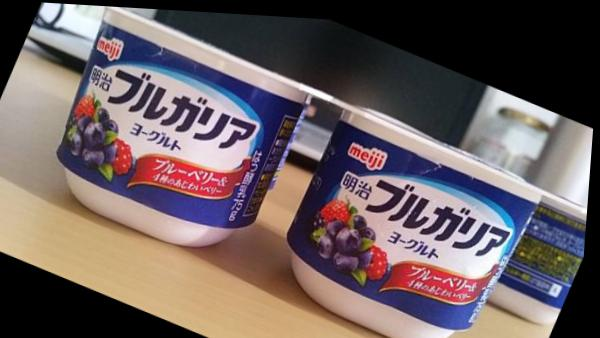plastic: (0, 1, 334, 281), (250, 85, 553, 338), (483, 182, 589, 334)
